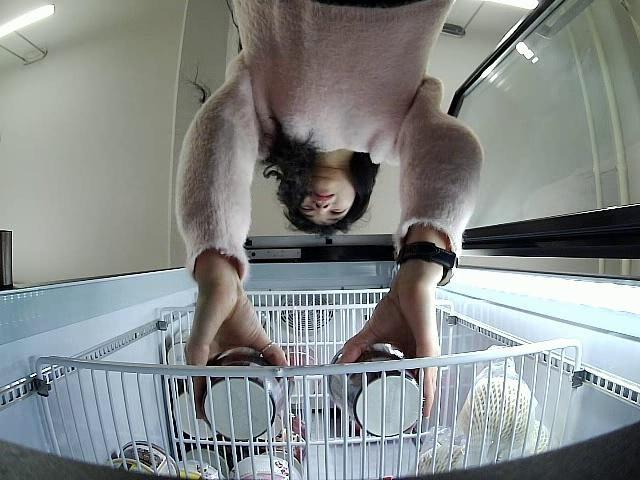08_buldak_S: (202, 348, 294, 442), (328, 346, 422, 438)
